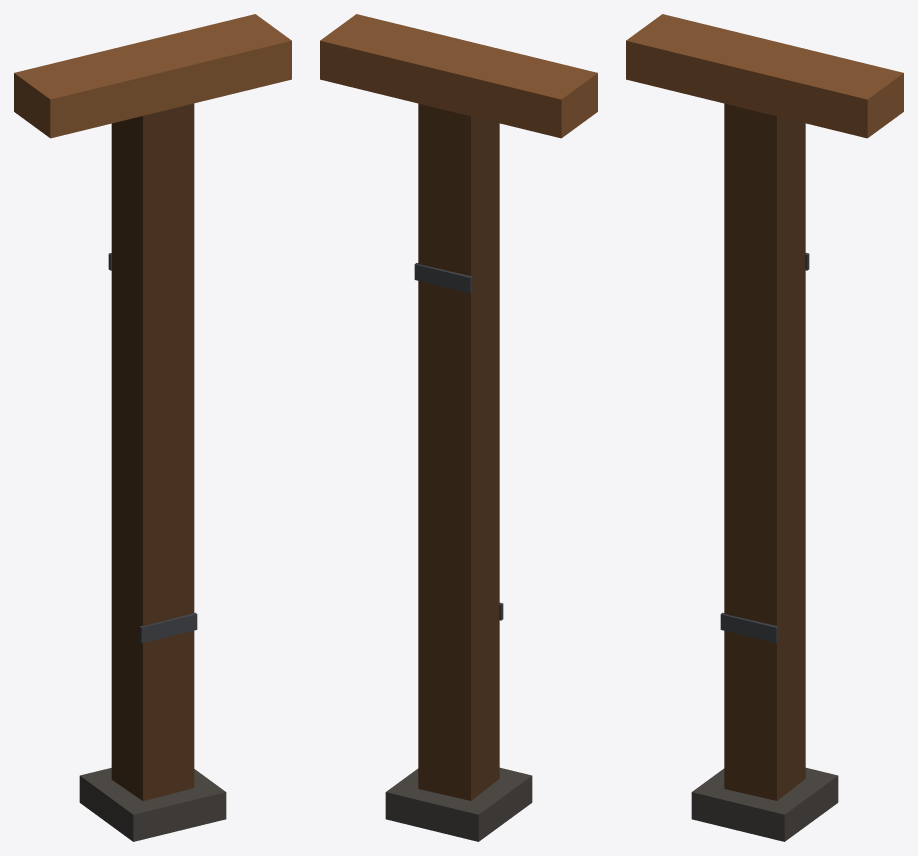
The model's file is mine_support_post.glb.
3 views of the same model, side by side, from view 1: azimuth 30°, elevation 25°; view 2: azimuth 150°, elevation 25°; view 3: azimuth 330°, elevation 25° (orthographic).
Visible parts, largest first — view 1: mine_support_post; view 2: mine_support_post; view 3: mine_support_post.
Part boxes in pixels (bbox=[...]): mine_support_post: bbox=[14, 14, 291, 841]; mine_support_post: bbox=[320, 14, 597, 841]; mine_support_post: bbox=[626, 14, 903, 841].
Bounding box in the file's own units: 1.3 × 3.88 × 0.5.
